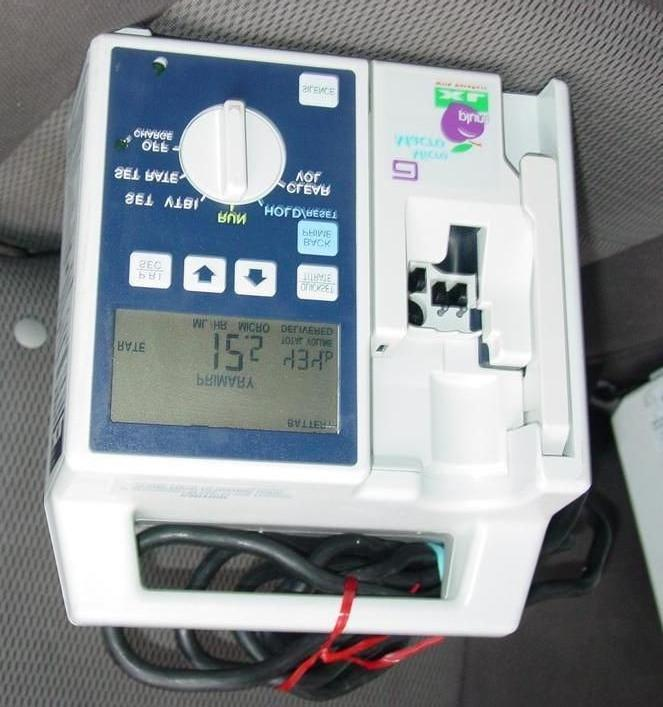plumxl1: (44, 31, 595, 644)
